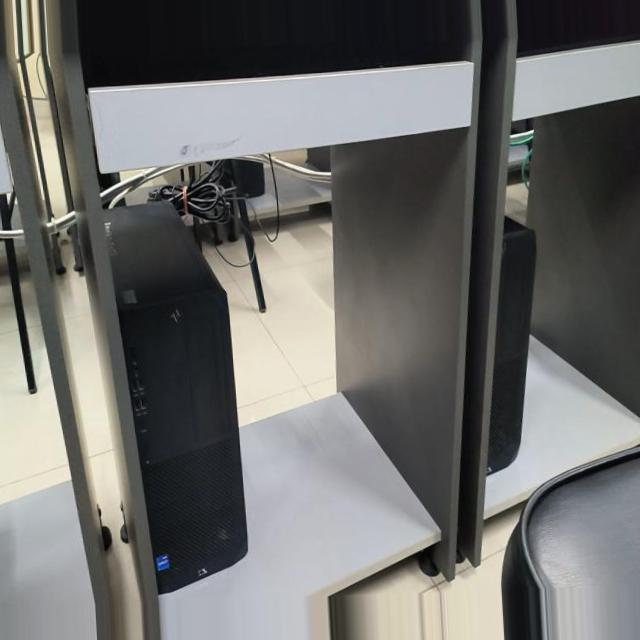Chair: (0, 470, 164, 639)
Cpu: (399, 181, 515, 630), (115, 207, 172, 505)
